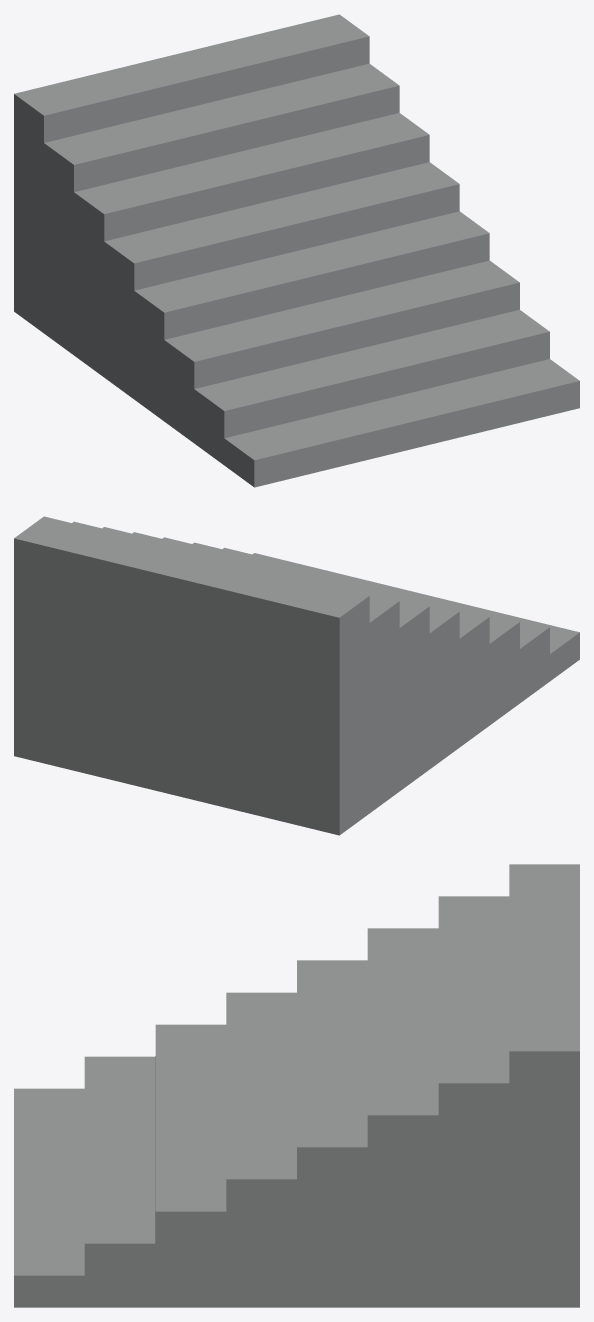
Rendered from EscEmb.fbx.
The picture shows the model from 3 angles, top to bottom: view 1: azimuth 30°, elevation 25°; view 2: azimuth 150°, elevation 25°; view 3: azimuth 270°, elevation 25°; orthographic projection. The views are drawn at different scales.
Parts seen in each view (by area): view 1: Cube.006; view 2: Cube.006; view 3: Cube.006.
Boxes of the visible parts, box(x1,y1,x2,y2) form: Cube.006: box(14, 14, 579, 487); Cube.006: box(14, 516, 579, 835); Cube.006: box(14, 864, 579, 1307).
Bounding box in the file's own units: 49.86 × 31.87 × 63.8.
